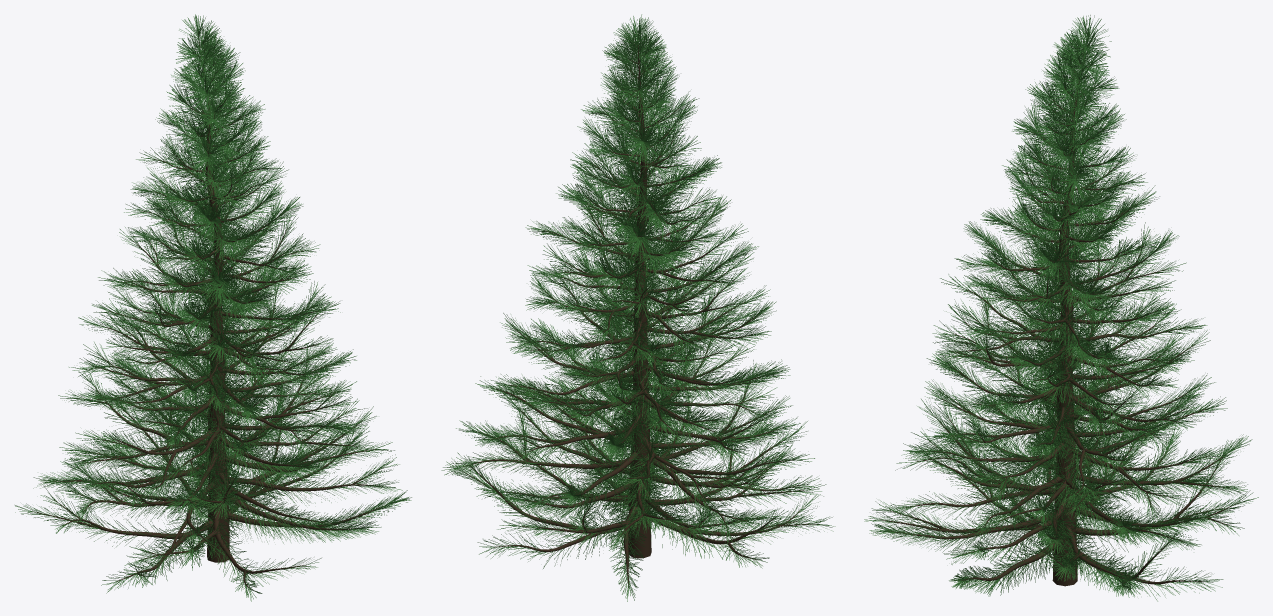
File: Pine_high.fbx
3 renders of one model, left to right at view 1: azimuth 30°, elevation 25°; view 2: azimuth 150°, elevation 25°; view 3: azimuth 270°, elevation 25°, orthographic. The views are drawn at different scales.
Parts seen in each view (by area): view 1: leaves, Pine_high; view 2: leaves, Pine_high; view 3: leaves, Pine_high.
Part boxes in pixels (x1,y1,x2,y2): leaves: (15,14,411,601); Pine_high: (32,33,386,589); leaves: (441,14,835,601); Pine_high: (462,37,817,587); leaves: (864,15,1258,601); Pine_high: (879,52,1238,586).
Bounding box in the file's own units: 313 × 489 × 313.
